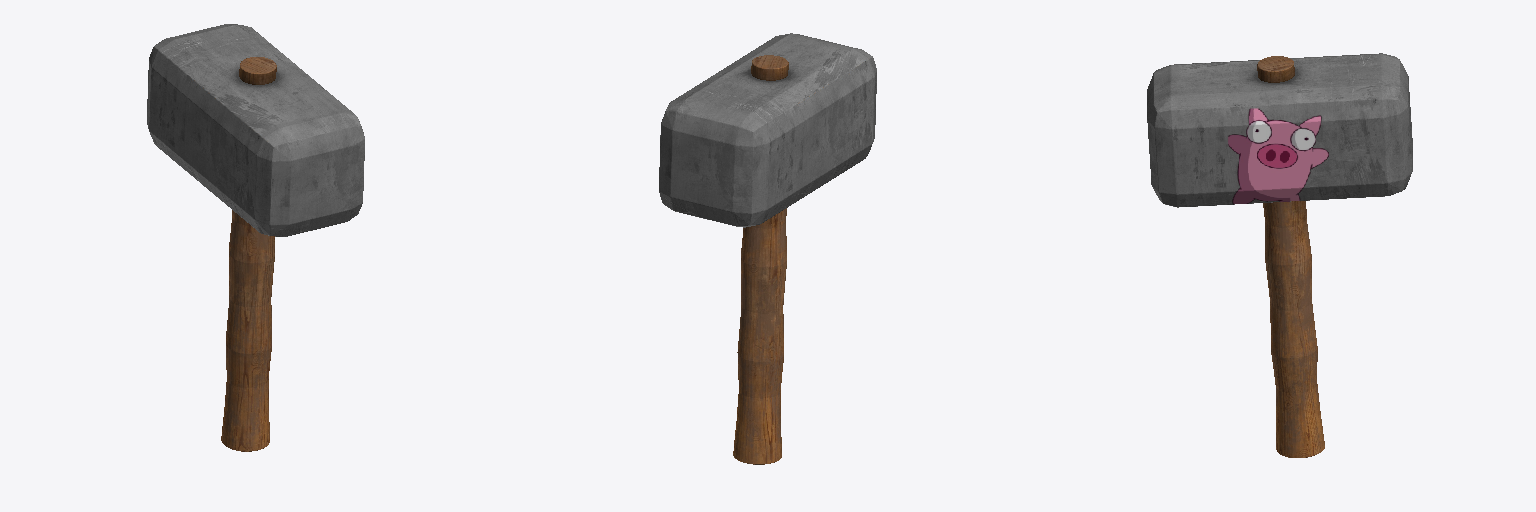
The picture shows the model from 3 angles: view 1: azimuth 30°, elevation 25°; view 2: azimuth 150°, elevation 25°; view 3: azimuth 270°, elevation 25°; orthographic projection.
Visible parts, largest first — view 1: defaultMaterial.001; view 2: defaultMaterial.001; view 3: defaultMaterial.001.
Part boxes in pixels (x1,y1,x2,y2): defaultMaterial.001: (147, 24, 364, 451); defaultMaterial.001: (659, 33, 876, 464); defaultMaterial.001: (1147, 53, 1412, 457).
Bounding box in the file's own units: 0.4468 × 1.56 × 0.9682.
1 materials, 1 textured.